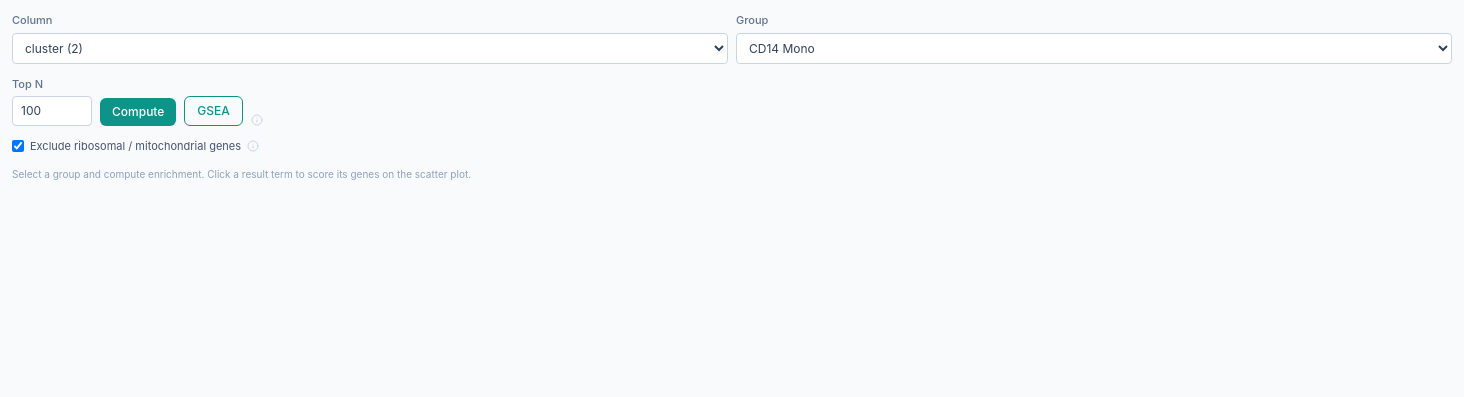
UnifiedEnrichmentSubtab GSEA › clears the GSEA result when another group is picked
Click the button "GSEA" at coordinates (214, 111), box [184, 96, 243, 126]
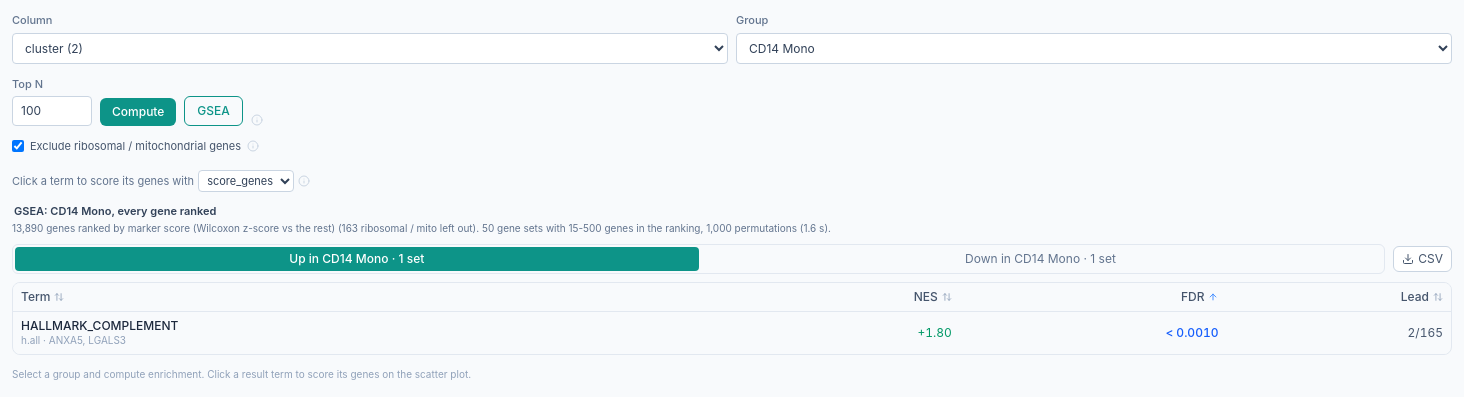
Result: the text "HALLMARK_COMPLEMENT" is shown at [21, 318, 178, 333]
Select "B" in the dropdown showing "CD14 Mono" at coordinates (1094, 48), box [736, 32, 1452, 64]
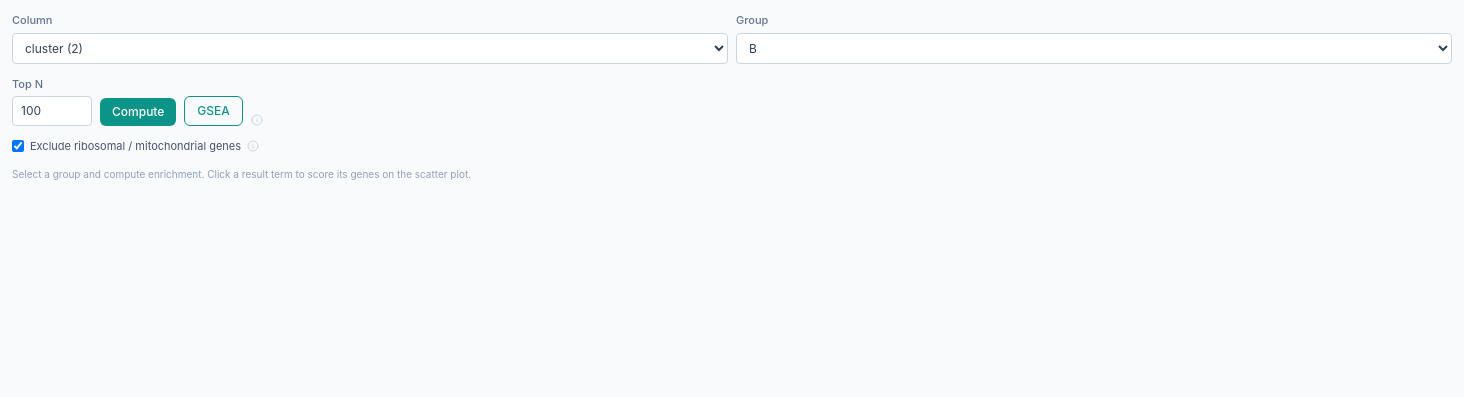
Result: the text "HALLMARK_COMPLEMENT" is gone
